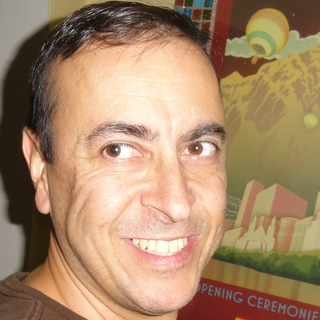eye: (182, 134, 226, 161), (94, 139, 141, 163)
